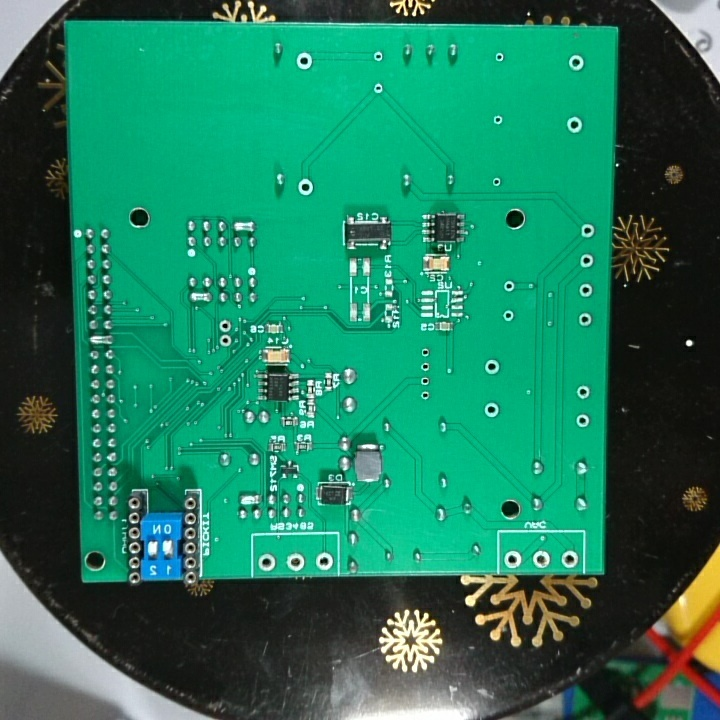F: (313, 550, 336, 572), (501, 549, 525, 569), (297, 175, 316, 200), (531, 547, 552, 569), (559, 549, 582, 569), (294, 50, 315, 71), (573, 382, 594, 403), (285, 552, 307, 572), (256, 553, 279, 572), (481, 357, 501, 378), (573, 410, 592, 432), (564, 115, 584, 135), (482, 400, 502, 420), (567, 52, 586, 72), (579, 220, 598, 240), (577, 281, 596, 300), (579, 252, 596, 271), (577, 310, 592, 330), (217, 316, 233, 334), (501, 278, 516, 294), (219, 332, 232, 350), (502, 309, 516, 324), (490, 175, 504, 189), (418, 361, 432, 375), (419, 375, 433, 389), (494, 49, 506, 65), (372, 49, 384, 64), (419, 346, 432, 359), (371, 82, 383, 95), (492, 113, 503, 127), (419, 389, 430, 403)
P: (236, 491, 264, 508), (188, 289, 213, 306), (231, 218, 257, 234), (87, 334, 117, 346)
